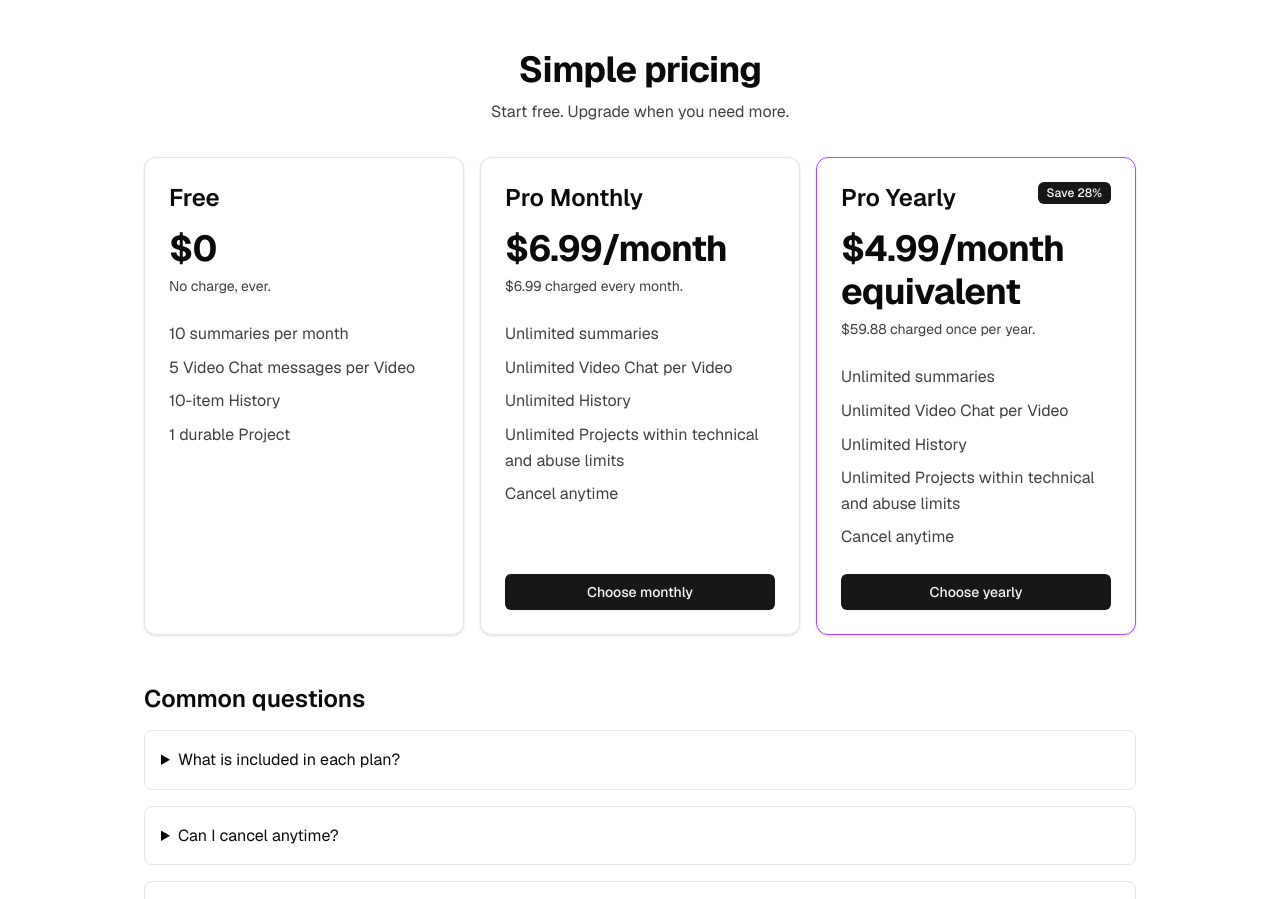
Scenario: PricingPage › reports an attributed checkout failure and offers a retry without claiming checkout started
The image size is (1280, 899).
Click the button "Choose yearly". click: (976, 592)
box: x1=841 y1=574 x2=1111 y2=610
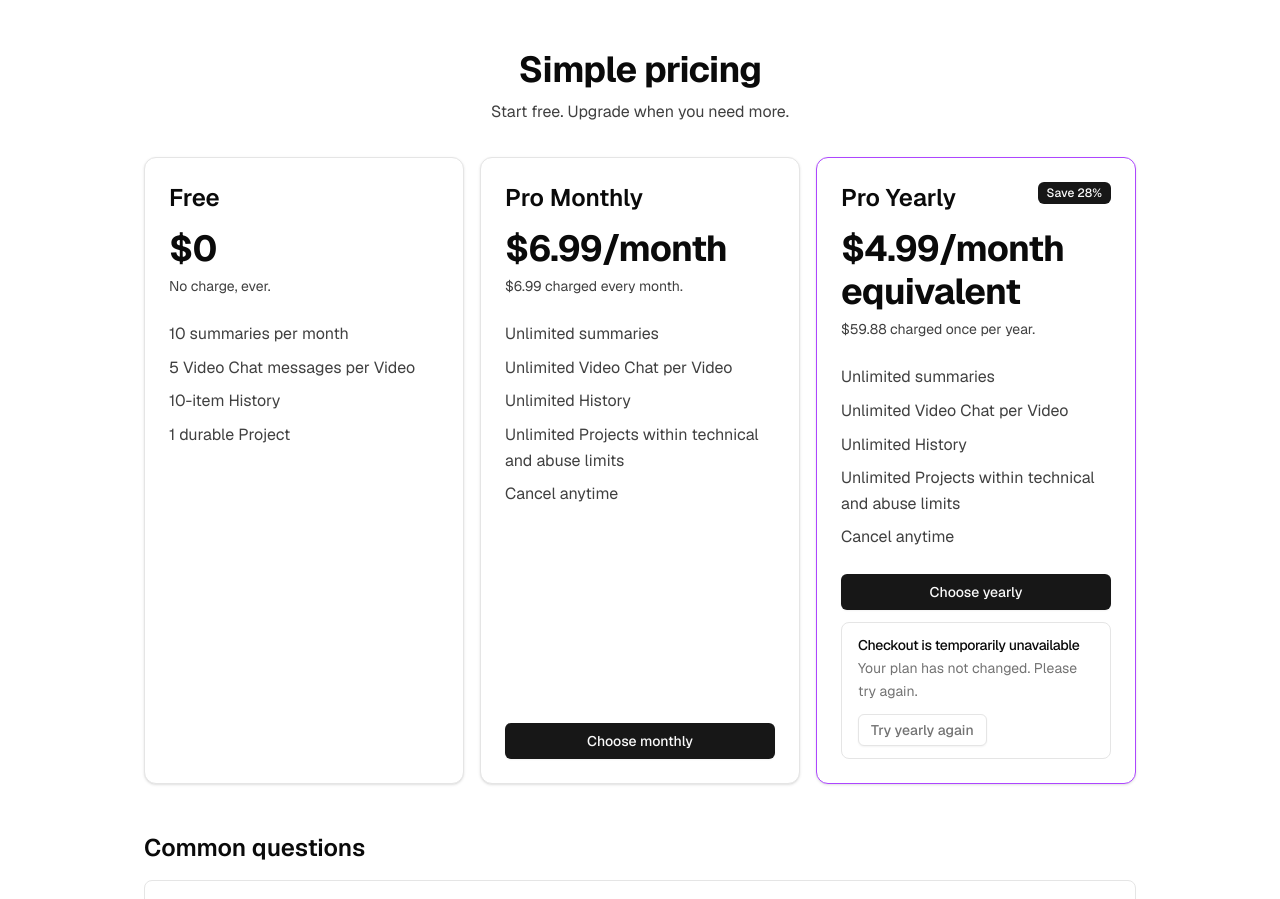
Result: the message shows "Checkout is temporarily unavailable" at x1=858 y1=636 x2=1080 y2=654
Result: the button "Try yearly again" is shown at x1=858 y1=714 x2=987 y2=746
